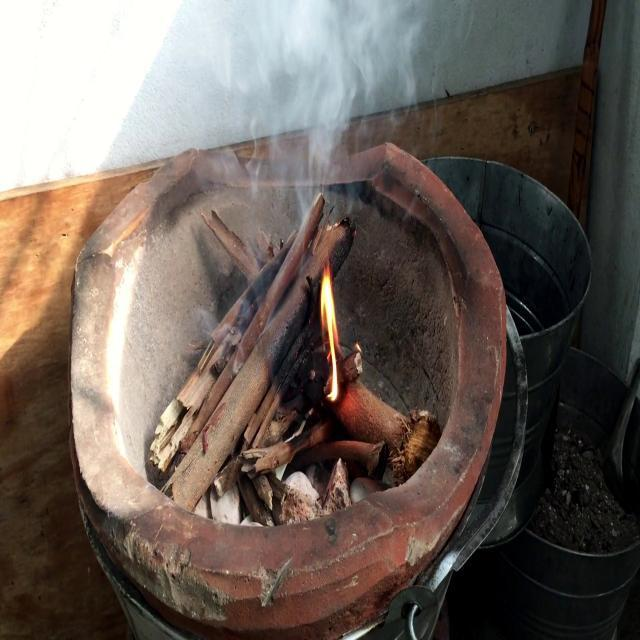Fire: (314, 254, 352, 409)
Smoke: (226, 0, 428, 219)
